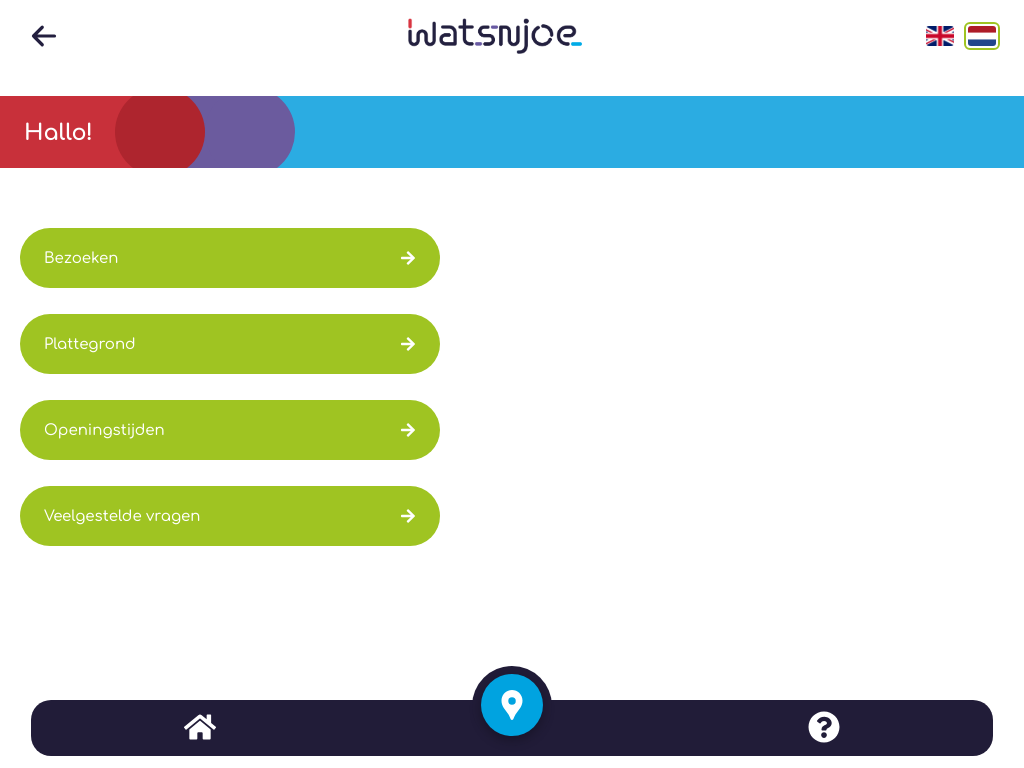
Test: App - Home Page › Language toggle › switches back to Dutch from English
Step 1. Click the button named "Switch to English" → (940, 36), box 922,22 -> 958,50
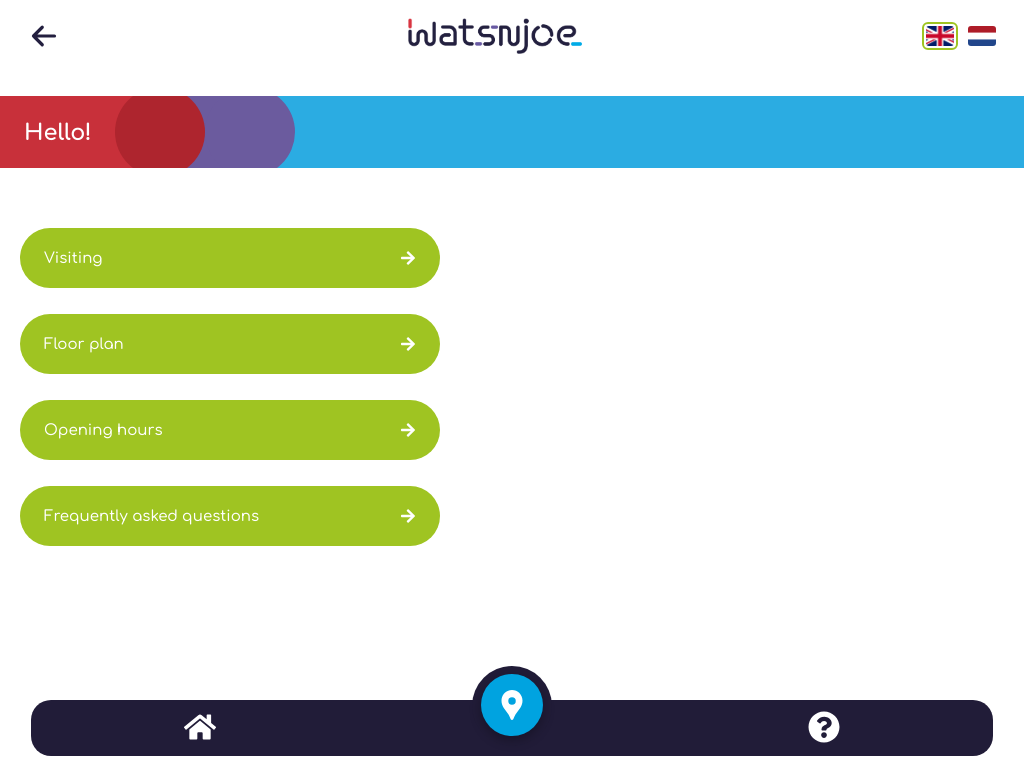
Step 2. Click the button named "Schakel naar Nederlands" → (982, 36), box 964,22 -> 1000,50
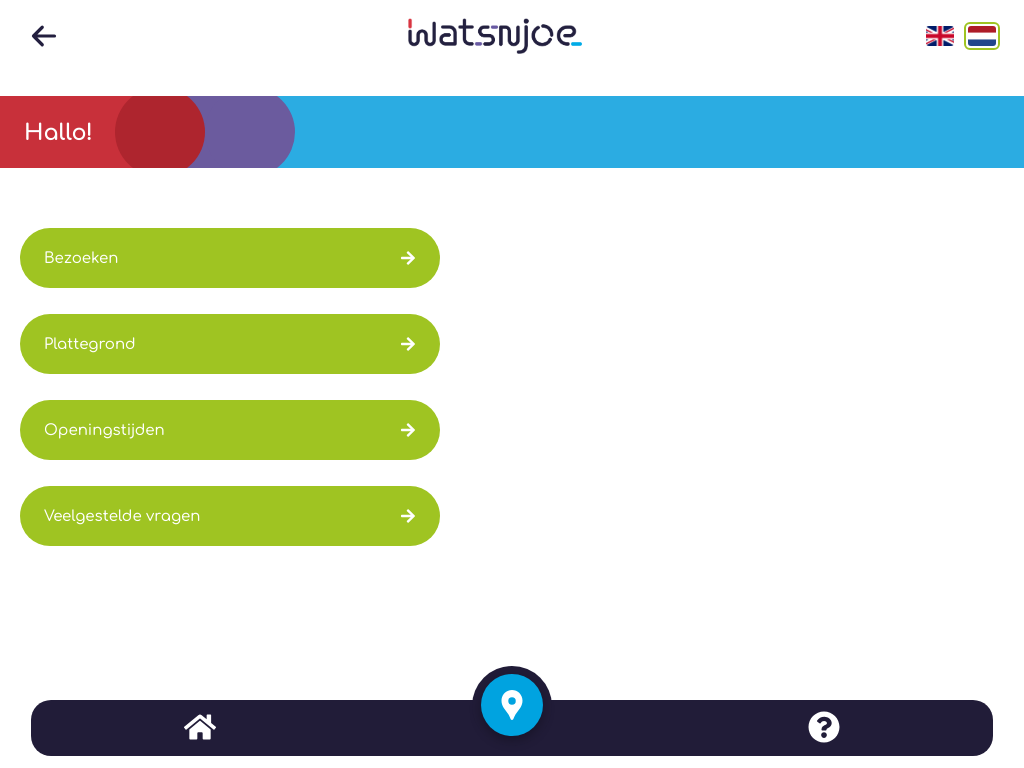
Check: the text "Hallo!" is shown, box 24,120 -> 93,144
Check: the link "Bezoeken" is shown, box 20,228 -> 440,288
